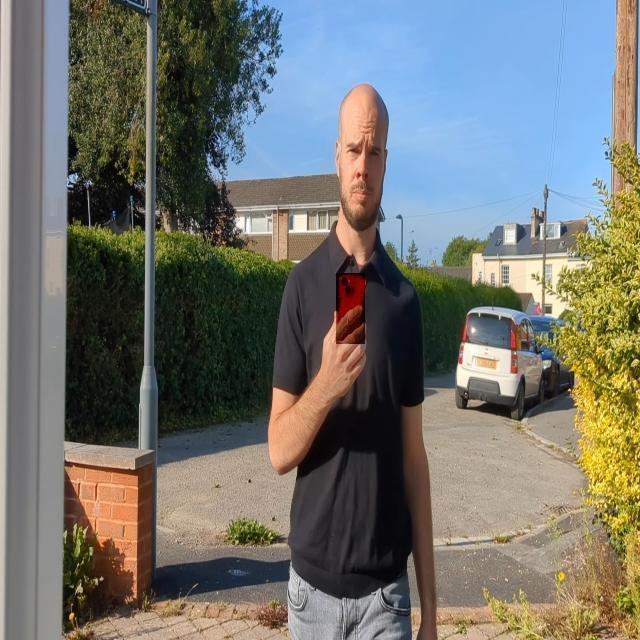Mobile: (336, 273, 365, 344)
